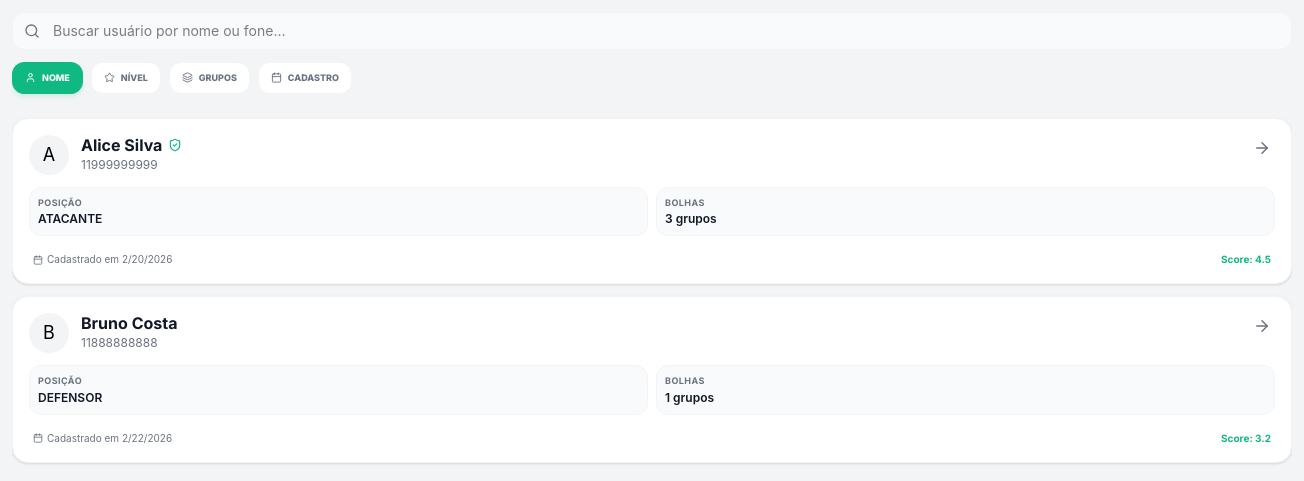
Test: UsersTab Component › filters users based on search input (name or phone)
Expected: the heading "Alice Silva" is shown, x1=81 y1=136 x2=182 y2=152
// Search by name
In the field with placeholder "Buscar usuário por nome ou fone...": (652, 31) x1=12 y1=12 x2=1292 y2=50, type "Bruno"
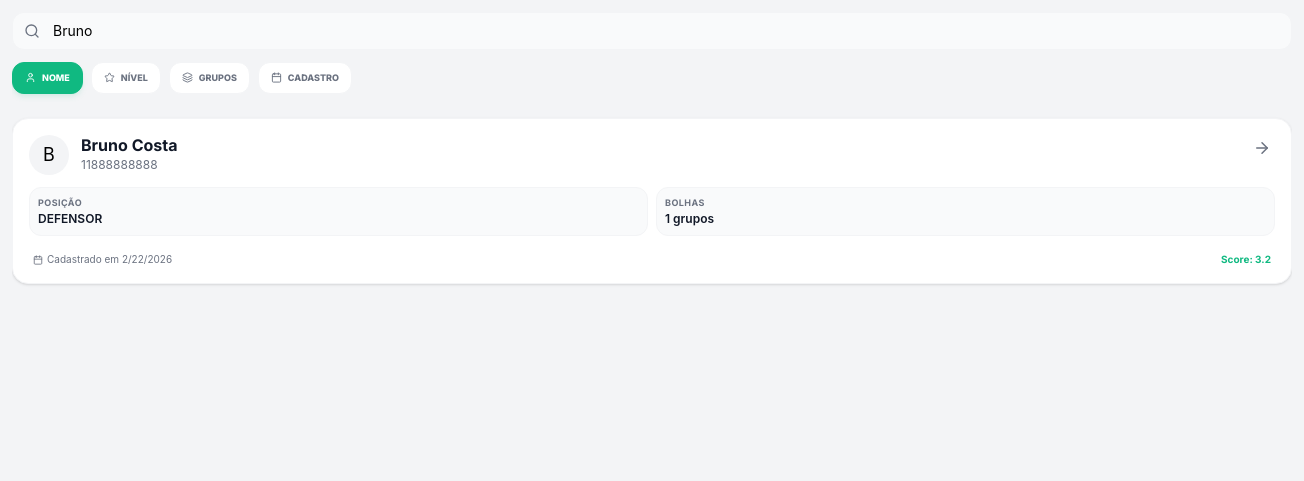
Expected: the heading "Bruno Costa" is shown, x1=81 y1=136 x2=178 y2=152
Expected: the heading "Alice Silva" is gone
// Search by phone
Replace the text in the field with placeholder "Buscar usuário por nome ou fone..." with "999999": (652, 31) x1=12 y1=12 x2=1292 y2=50
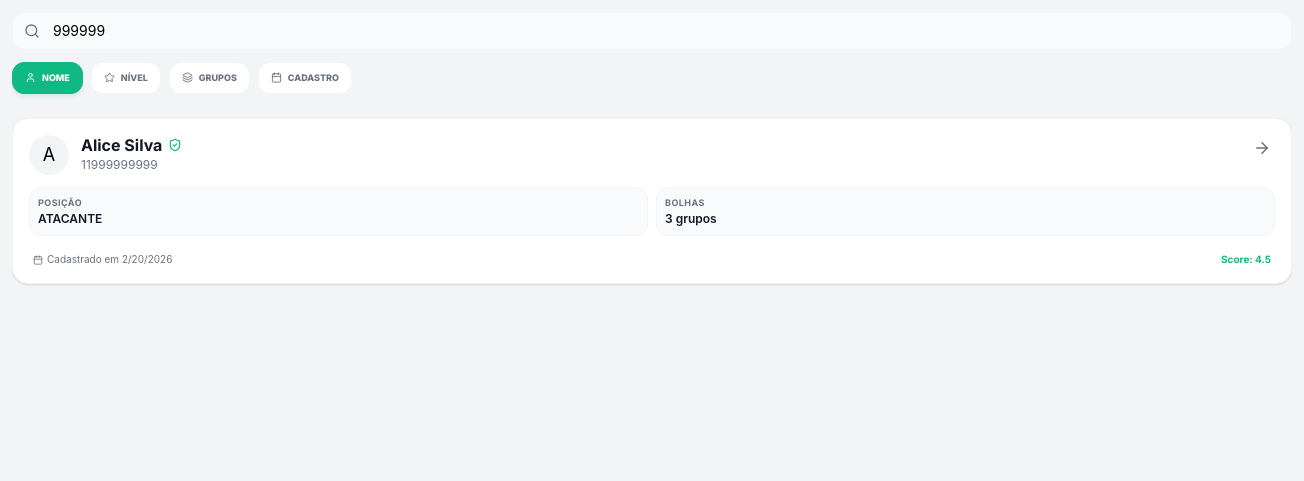
Expected: the heading "Alice Silva" is shown, x1=81 y1=136 x2=182 y2=152
Expected: the heading "Bruno Costa" is gone
